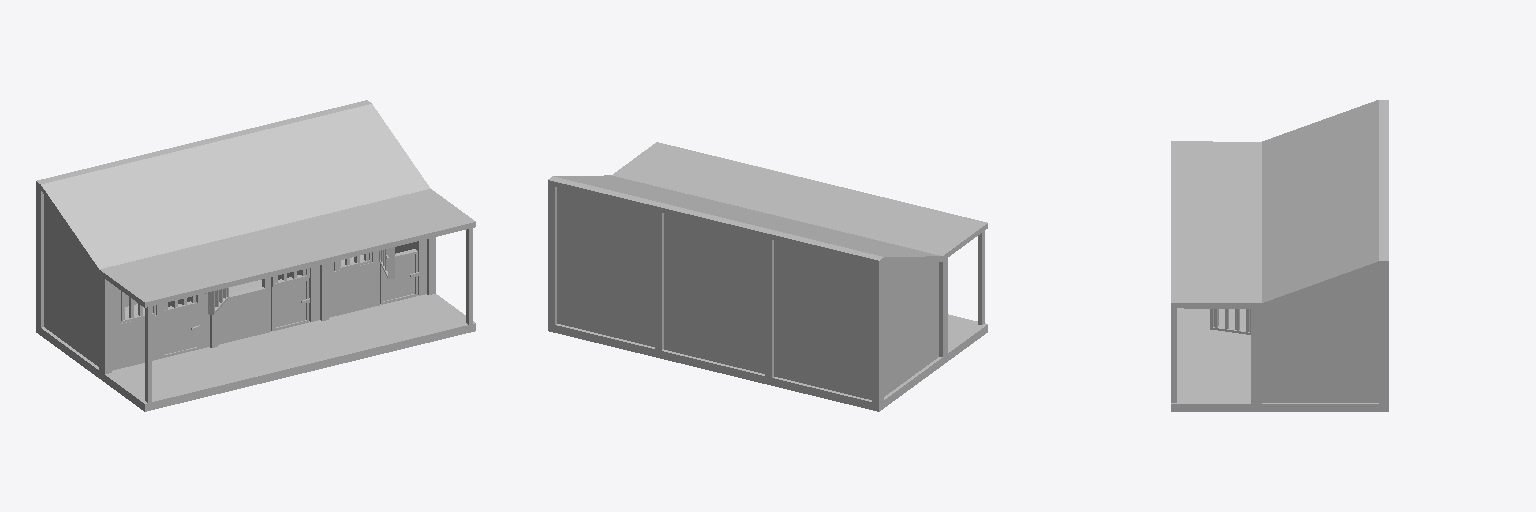
File: Stable.obj
3 views of the same model, side by side, from view 1: azimuth 30°, elevation 25°; view 2: azimuth 150°, elevation 25°; view 3: azimuth 270°, elevation 25° (orthographic).
Visible parts, largest first — view 1: Stable; view 2: Stable; view 3: Stable.
Part boxes in pixels (x1,y1,x2,y2): Stable: (36,100,475,411); Stable: (548,142,987,411); Stable: (1171,100,1388,411).
Bounding box in the file's own units: 9.77 × 4.26 × 5.57.